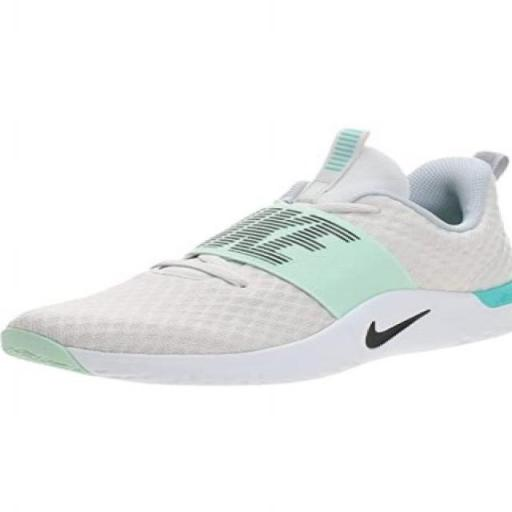Nike: (351, 307, 438, 354)
